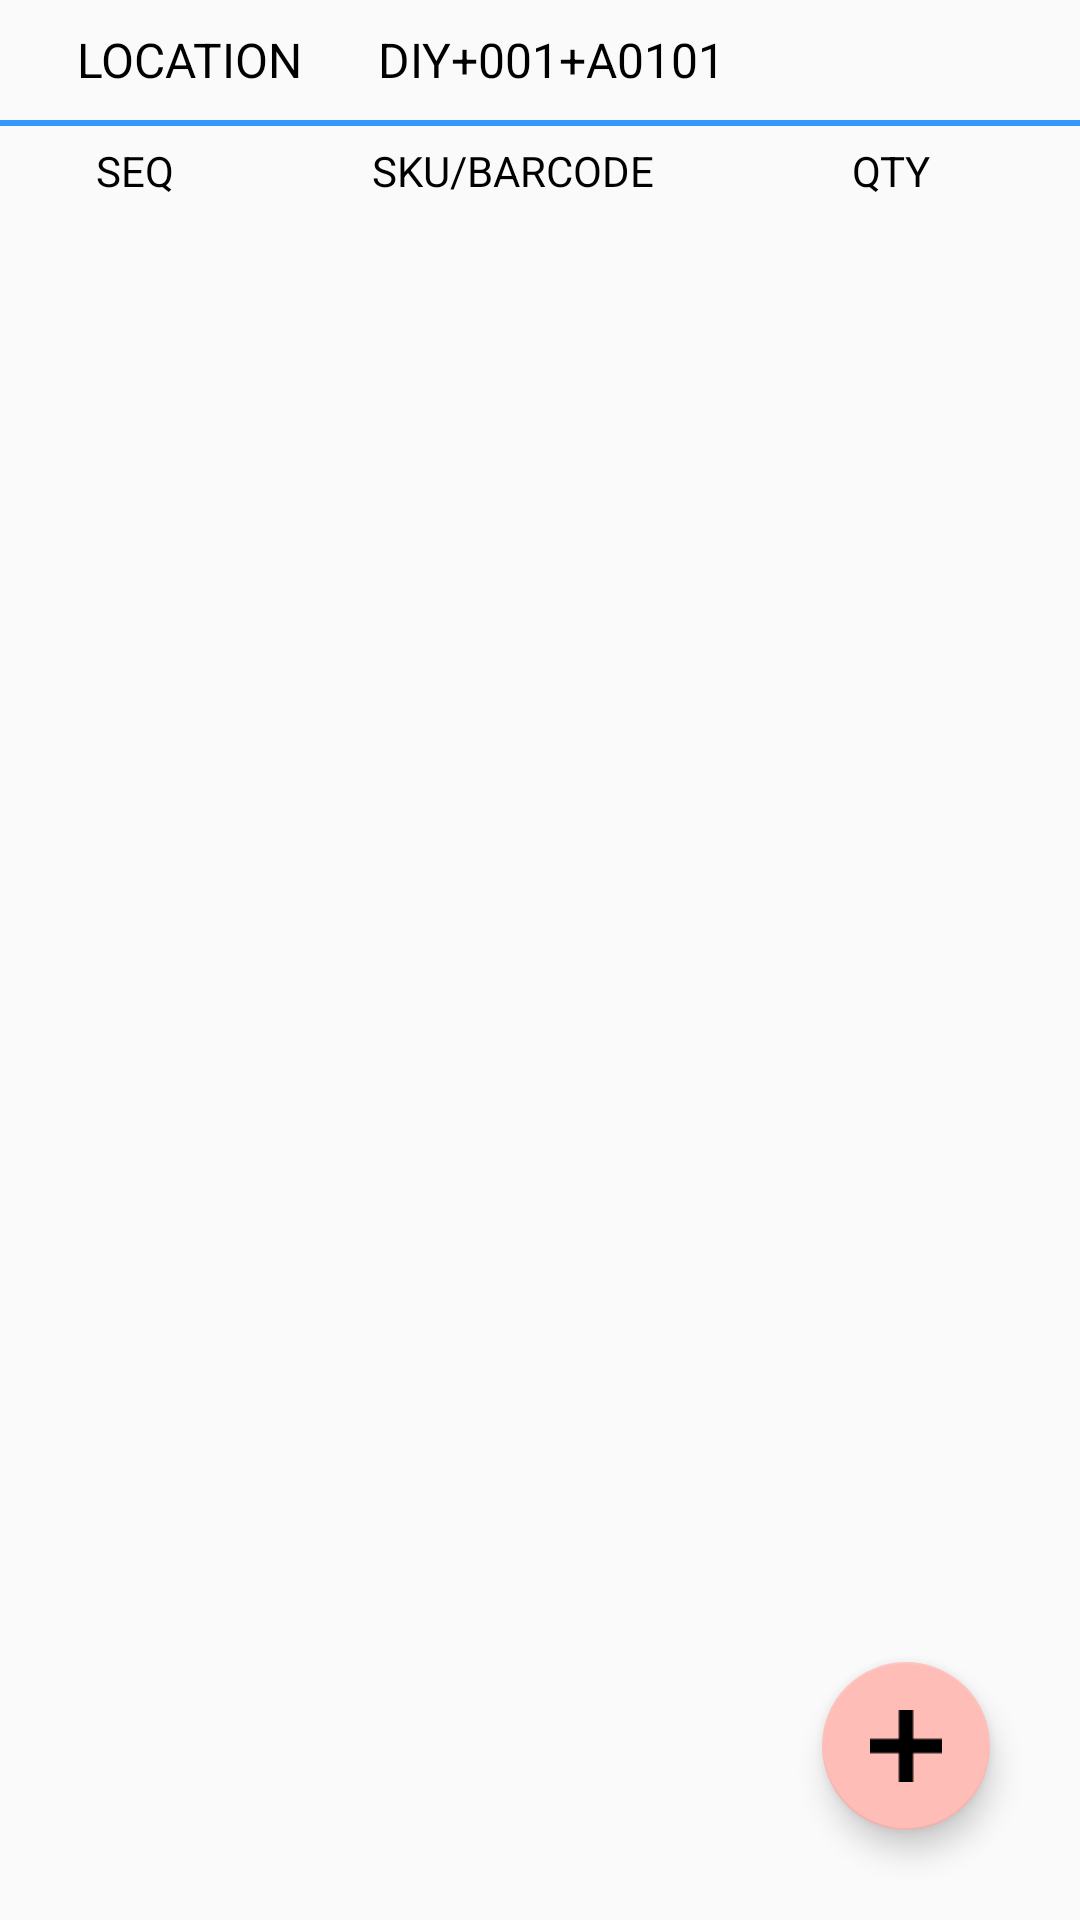

Named icons in this screenshot (1080×1920) and their centers, (x,y):
plus: (906,1746)
